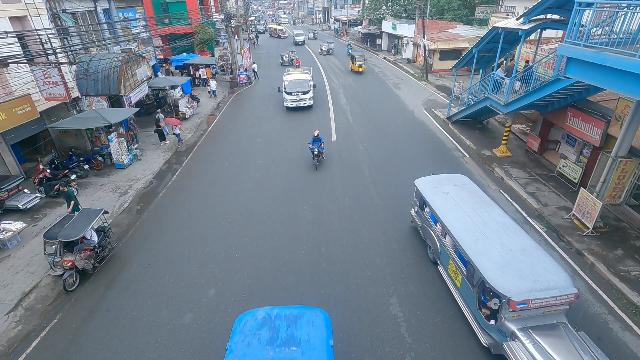jeepney: (406, 173, 616, 360), (267, 24, 287, 39)
motorcycle: (307, 129, 326, 171), (294, 58, 301, 68), (347, 44, 352, 56)
truck: (278, 66, 316, 111)
van: (292, 30, 306, 45)
